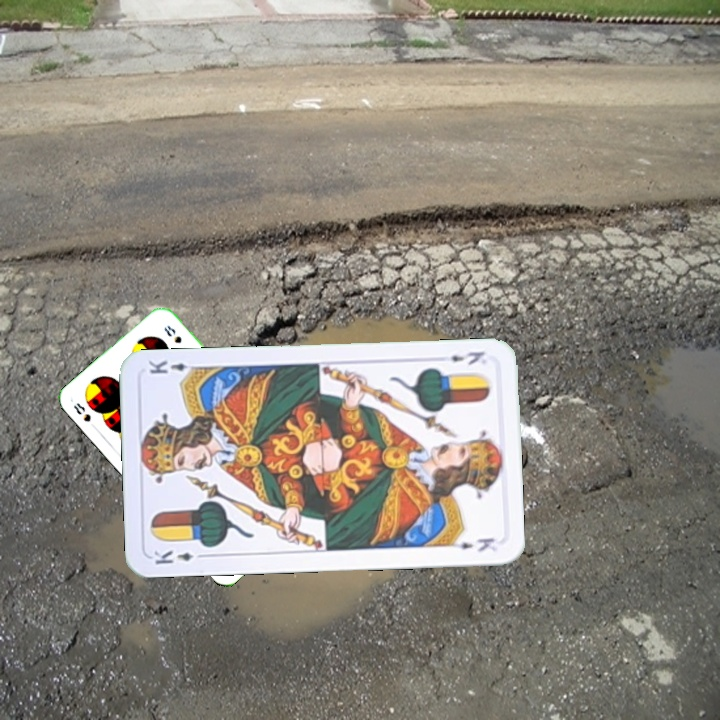EK: (150, 547, 209, 567), (446, 347, 487, 368)
S8: (69, 399, 99, 432)
